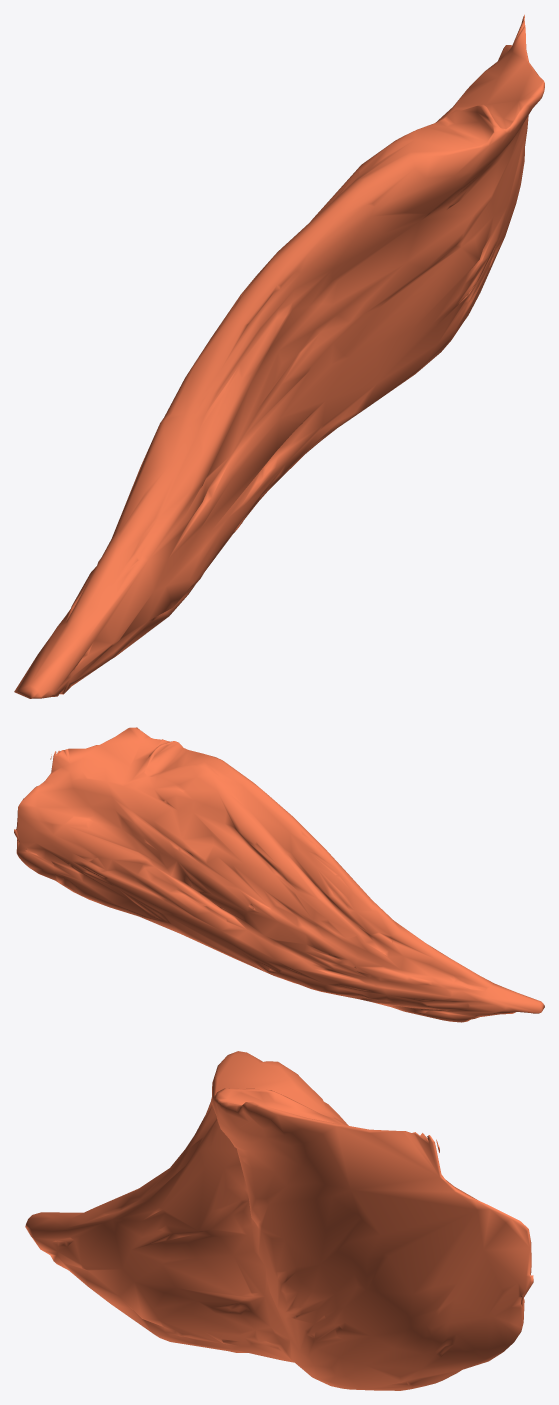
Rendered from Piriformis_muscle.r_Generated_Mesh_From_X3D.298.glb.
3 views of the same model, one above another, from view 1: azimuth 30°, elevation 25°; view 2: azimuth 150°, elevation 25°; view 3: azimuth 270°, elevation 25° (orthographic). The views are drawn at different scales.
Visible parts, largest first — view 1: Piriformis_muscle.r_Generated_Mesh_From_X3D.298; view 2: Piriformis_muscle.r_Generated_Mesh_From_X3D.298; view 3: Piriformis_muscle.r_Generated_Mesh_From_X3D.298.
Boxes of the visible parts, <box> form: Piriformis_muscle.r_Generated_Mesh_From_X3D.298: <box>14,14,544,698</box>; Piriformis_muscle.r_Generated_Mesh_From_X3D.298: <box>14,727,544,1022</box>; Piriformis_muscle.r_Generated_Mesh_From_X3D.298: <box>25,1051,533,1390</box>.
Size of the model in its own units: 0.11 by 0.0631 by 0.0592.
